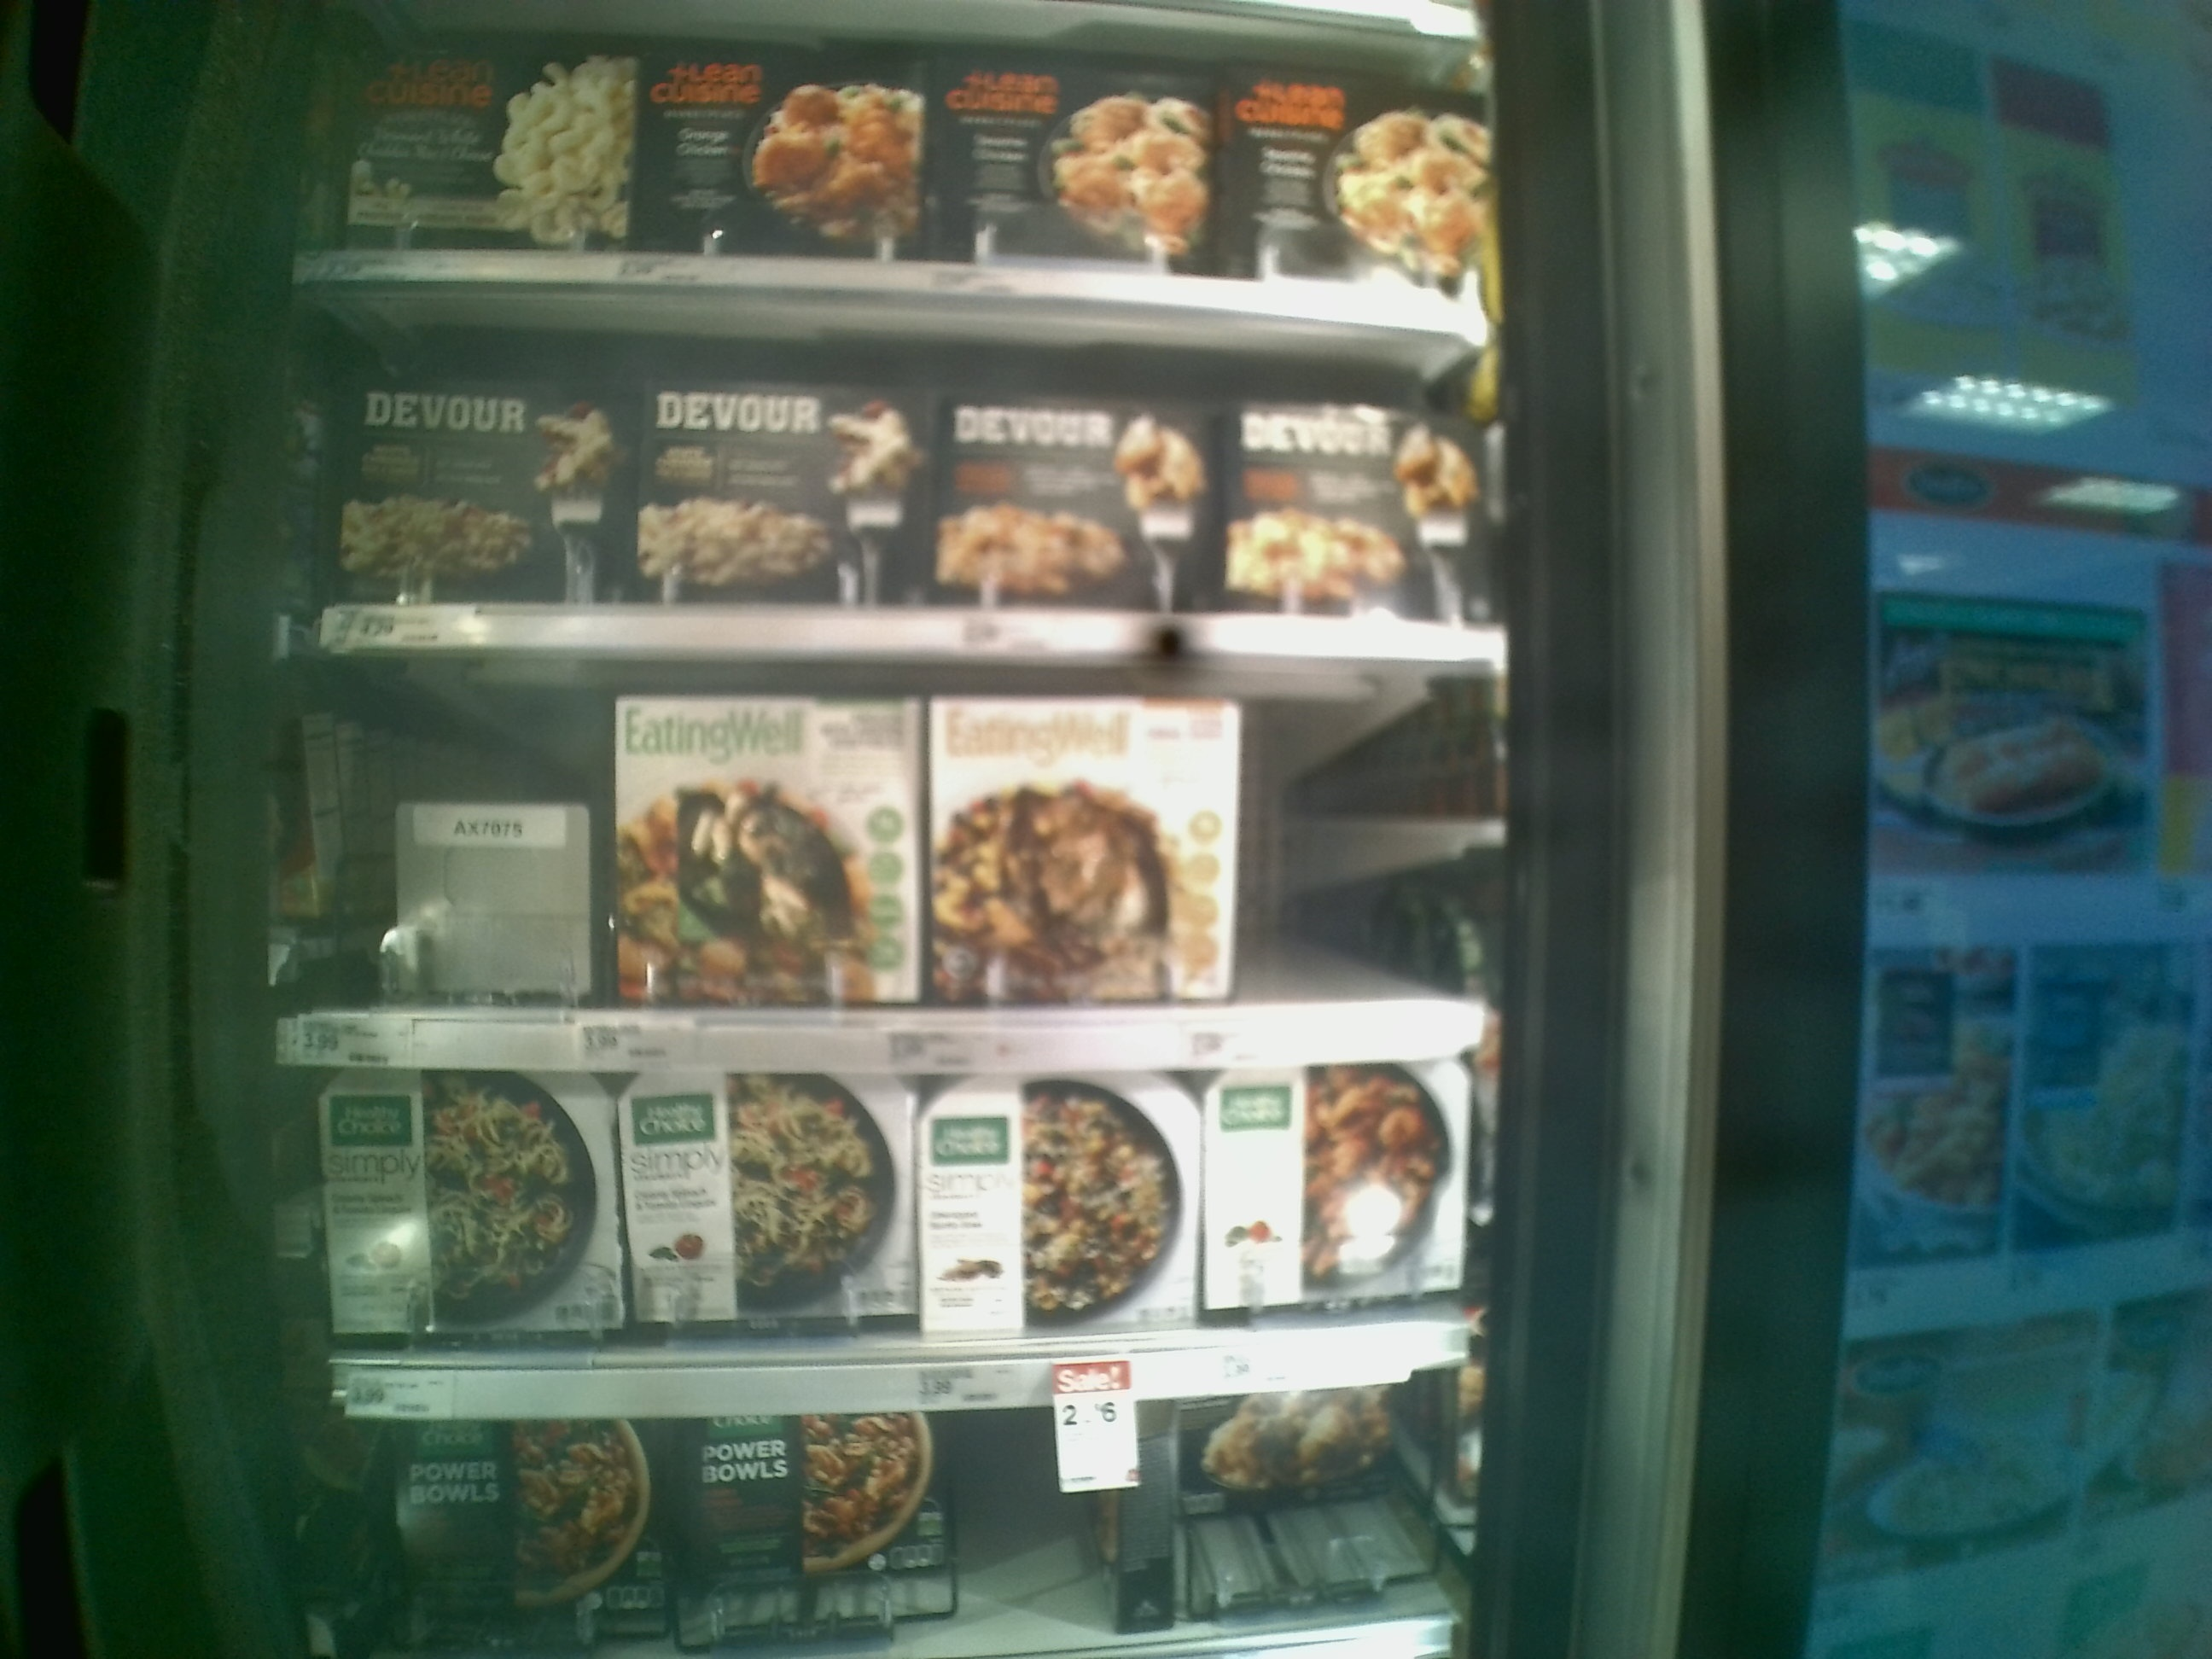pizza: (928, 688, 1237, 1011), (613, 701, 927, 1004), (322, 1065, 625, 1337), (617, 1068, 928, 1324), (923, 1065, 1197, 1326), (636, 371, 932, 612), (1214, 51, 1484, 307), (1197, 1063, 1470, 1310), (336, 371, 631, 598), (637, 30, 932, 254), (928, 392, 1235, 606), (340, 33, 636, 254), (935, 37, 1209, 260), (653, 1419, 948, 1624), (397, 1425, 662, 1633), (1245, 415, 1493, 603)
